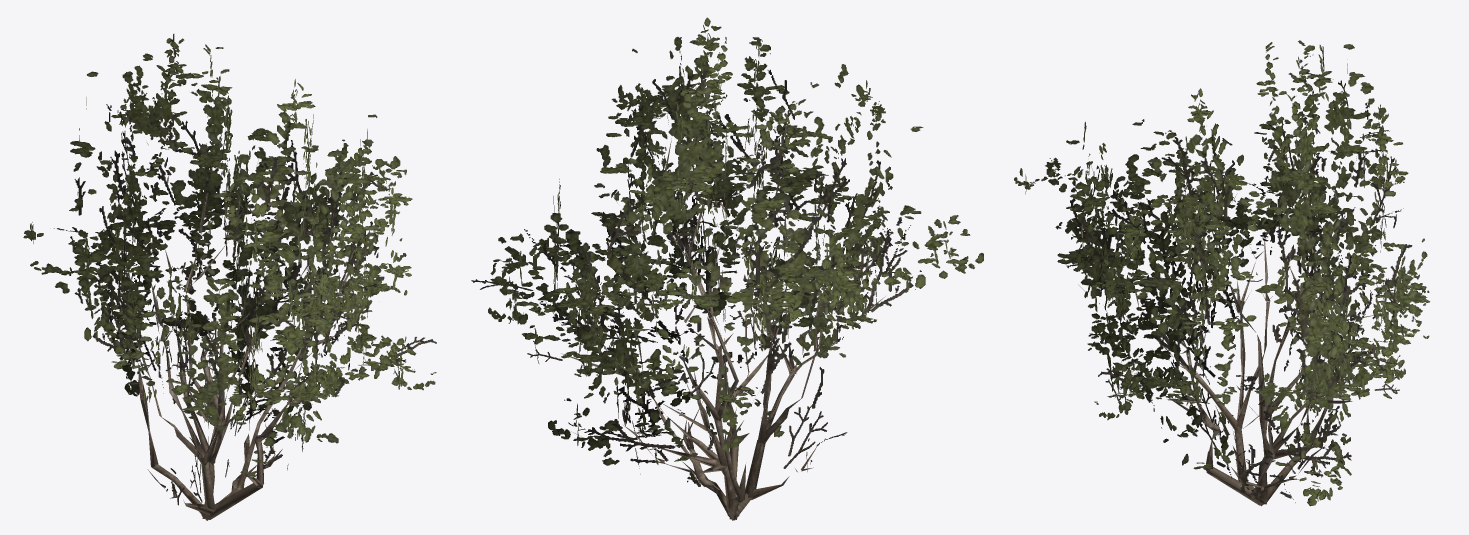
Rendered from bush_a.glb.
3 renders of one model, left to right at view 1: azimuth 30°, elevation 25°; view 2: azimuth 150°, elevation 25°; view 3: azimuth 270°, elevation 25°, orthographic. The views are drawn at different scales.
Parts seen in each view (by area): view 1: foliage, searsia_lucida_a_LOD0; view 2: foliage, searsia_lucida_a_LOD0; view 3: foliage, searsia_lucida_a_LOD0.
Part boxes in pixels (left/top/right/bottom): foliage: left=23, top=34, right=436, bottom=505; searsia_lucida_a_LOD0: left=85, top=97, right=355, bottom=520; foliage: left=471, top=17, right=983, bottom=486; searsia_lucida_a_LOD0: left=544, top=111, right=885, bottom=520; foliage: left=1014, top=40, right=1429, bottom=506; searsia_lucida_a_LOD0: left=1078, top=63, right=1382, bottom=506.
Bounding box in the file's own units: 1.93 × 2.32 × 1.99.
2 materials, 2 textured.
